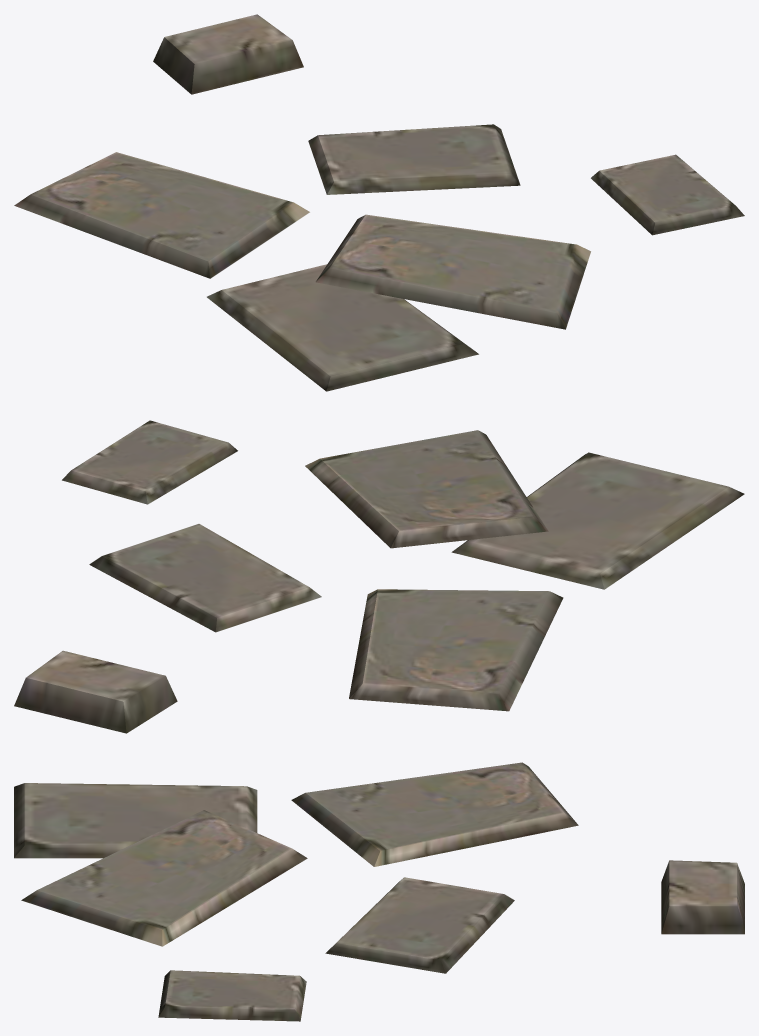
File: zhuan04.FBX
The picture shows the model from 3 angles, top to bottom: view 1: azimuth 30°, elevation 25°; view 2: azimuth 150°, elevation 25°; view 3: azimuth 270°, elevation 25°; orthographic projection. The views are drawn at different scales.
Visible parts, largest first — view 1: Box045; view 2: Box045; view 3: Box045.
Part boxes in pixels (x1,y1,x2,y2): Box045: (14,14,744,391); Box045: (14,420,744,733); Box045: (14,762,744,1021).
Size of the model in its own units: 226 by 10.2 by 273.
